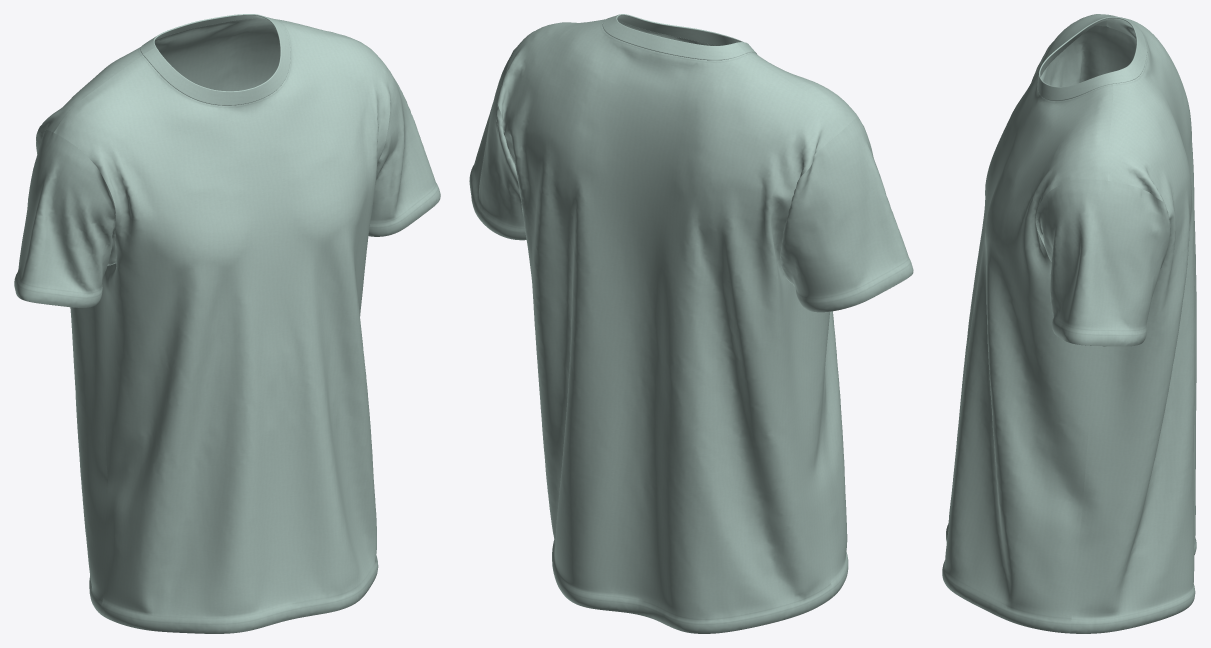
File: tshirt.glb
3 renders of one model, left to right at view 1: azimuth 30°, elevation 25°; view 2: azimuth 150°, elevation 25°; view 3: azimuth 270°, elevation 25°, orthographic. The views are drawn at different scales.
Visible parts, largest first — view 1: Comfortable T-Shirt; view 2: Comfortable T-Shirt; view 3: Comfortable T-Shirt.
Boxes of the visible parts, <box> form: Comfortable T-Shirt: <box>14,14,440,633</box>; Comfortable T-Shirt: <box>469,14,913,633</box>; Comfortable T-Shirt: <box>942,14,1196,633</box>.
Size of the model in its own units: 0.3687 by 0.455 by 0.1962.
Materials: 1 (1 with a texture image).
